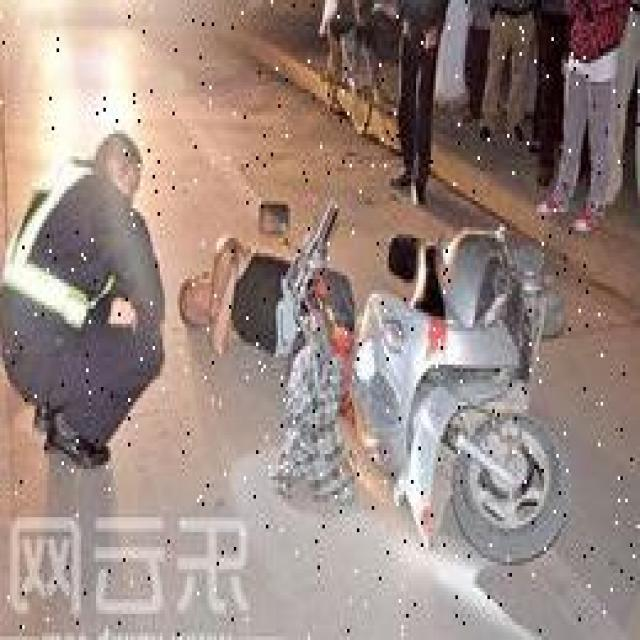fall: (187, 231, 359, 372)
